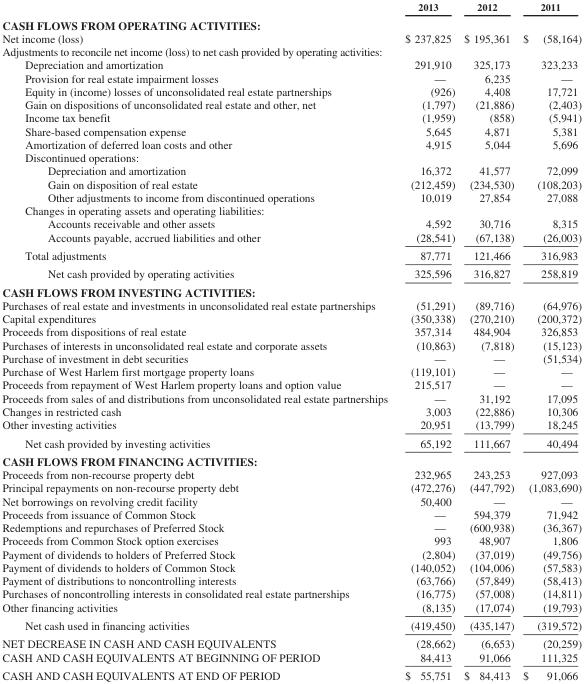table: (1, 0, 581, 681)
table column: (1, 0, 395, 681), (517, 0, 581, 681), (395, 0, 458, 681), (458, 0, 517, 681)
table column header: (1, 0, 581, 15)
table projected row header: (1, 15, 581, 31), (1, 282, 581, 298), (1, 451, 581, 467), (1, 44, 581, 57), (1, 150, 581, 163), (1, 203, 581, 216)
table row: (1, 245, 581, 264), (1, 615, 581, 634), (1, 264, 581, 282), (1, 433, 581, 451), (1, 15, 581, 31), (1, 282, 581, 298), (1, 417, 581, 433), (1, 451, 581, 467), (1, 634, 581, 650), (1, 665, 581, 681), (1, 0, 581, 15), (1, 230, 581, 245), (1, 600, 581, 615), (1, 650, 581, 665), (1, 57, 581, 71), (1, 110, 581, 124), (1, 163, 581, 177), (1, 216, 581, 230), (1, 324, 581, 338), (1, 377, 581, 391), (1, 480, 581, 494), (1, 533, 581, 547), (1, 586, 581, 600), (1, 31, 581, 44), (1, 44, 581, 57), (1, 71, 581, 84), (1, 84, 581, 97), (1, 97, 581, 110), (1, 124, 581, 137), (1, 137, 581, 150), (1, 150, 581, 163), (1, 177, 581, 190), (1, 190, 581, 203), (1, 203, 581, 216), (1, 298, 581, 311), (1, 311, 581, 324), (1, 338, 581, 351), (1, 351, 581, 364), (1, 364, 581, 377), (1, 391, 581, 404), (1, 404, 581, 417), (1, 467, 581, 480), (1, 494, 581, 507), (1, 507, 581, 520), (1, 520, 581, 533), (1, 547, 581, 560), (1, 560, 581, 573), (1, 573, 581, 586)
